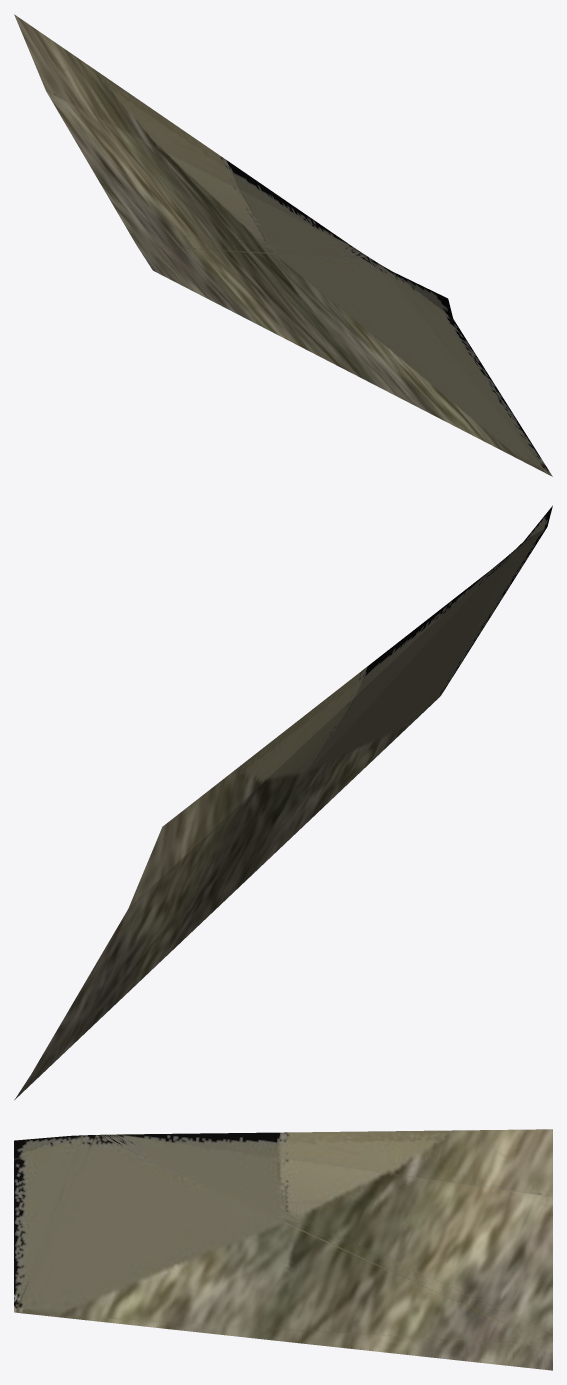
The picture shows the model from 3 angles, top to bottom: view 1: azimuth 30°, elevation 25°; view 2: azimuth 150°, elevation 25°; view 3: azimuth 270°, elevation 25°; orthographic projection. The views are drawn at different scales.
Size of the model in its own units: 1.18 by 2.36 by 5.9.
1 material, 1 textured.
